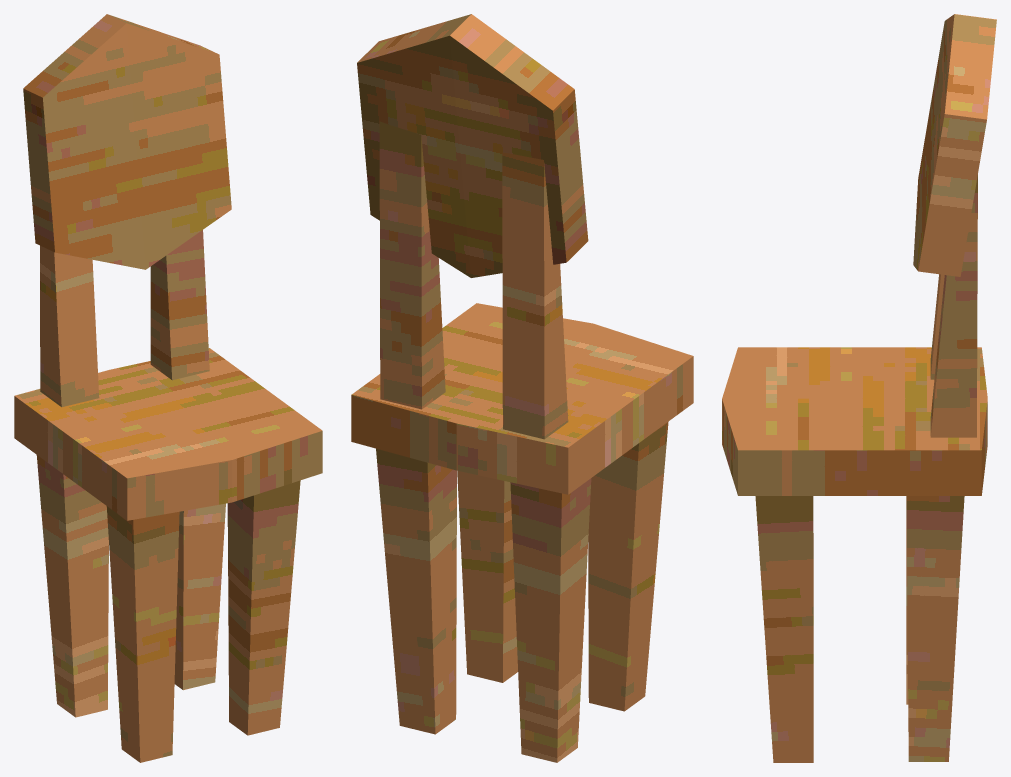
Rendered from chair.glb.
The picture shows the model from 3 angles, left to right: view 1: azimuth 30°, elevation 25°; view 2: azimuth 150°, elevation 25°; view 3: azimuth 270°, elevation 25°; orthographic projection. The views are drawn at different scales.
Visible parts, largest first — view 1: Cube.003; view 2: Cube.003; view 3: Cube.003.
Boxes of the visible parts, x1,y1,x2,y2 form: Cube.003: (14,14,322,762); Cube.003: (351,14,693,762); Cube.003: (722,14,996,762).
Size of the model in its own units: 2 by 6.45 by 2.26.
1 material, 1 textured.
